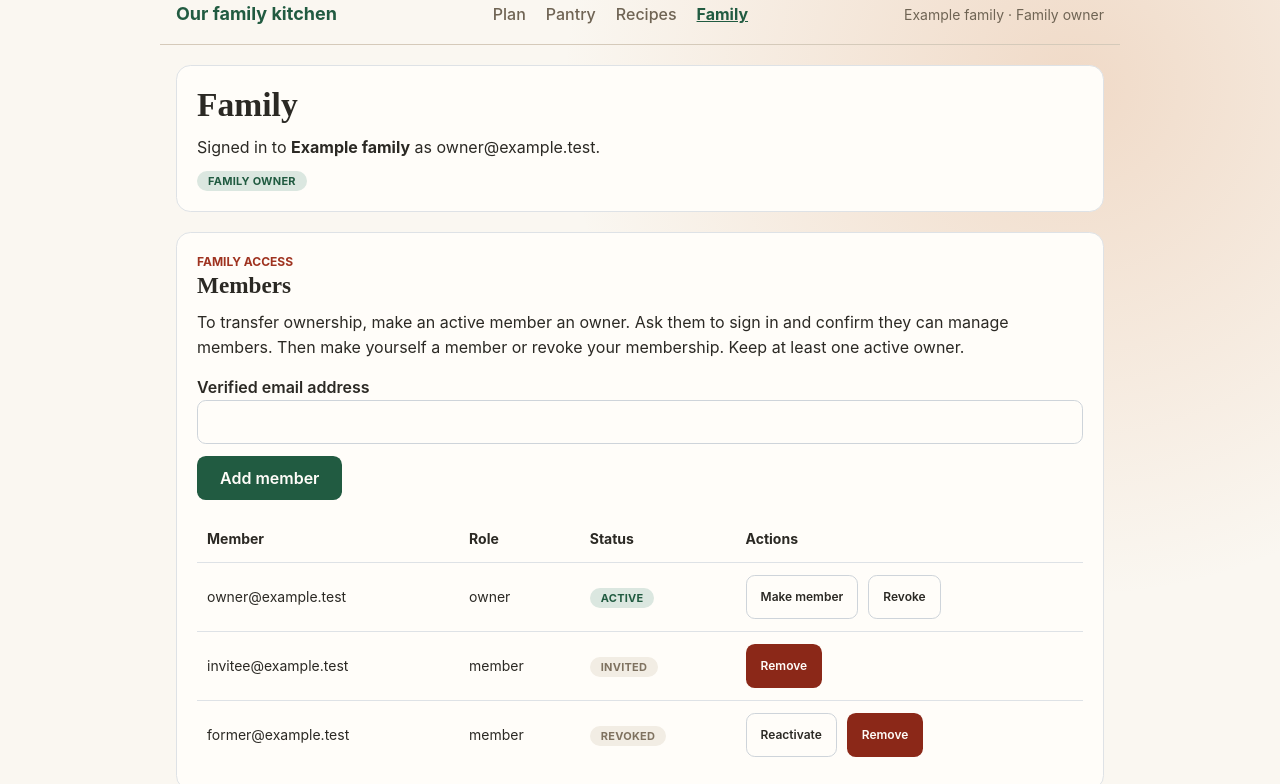
App › lets an owner add members and renders lifecycle actions
expect the heading "Members" is shown: met, box [197, 272, 291, 298]
expect the button "Make member" is shown: met, box [746, 575, 858, 619]
Type "new@example.test" into the field labelled "Verified email address" at (640, 422), box [197, 400, 1083, 444]
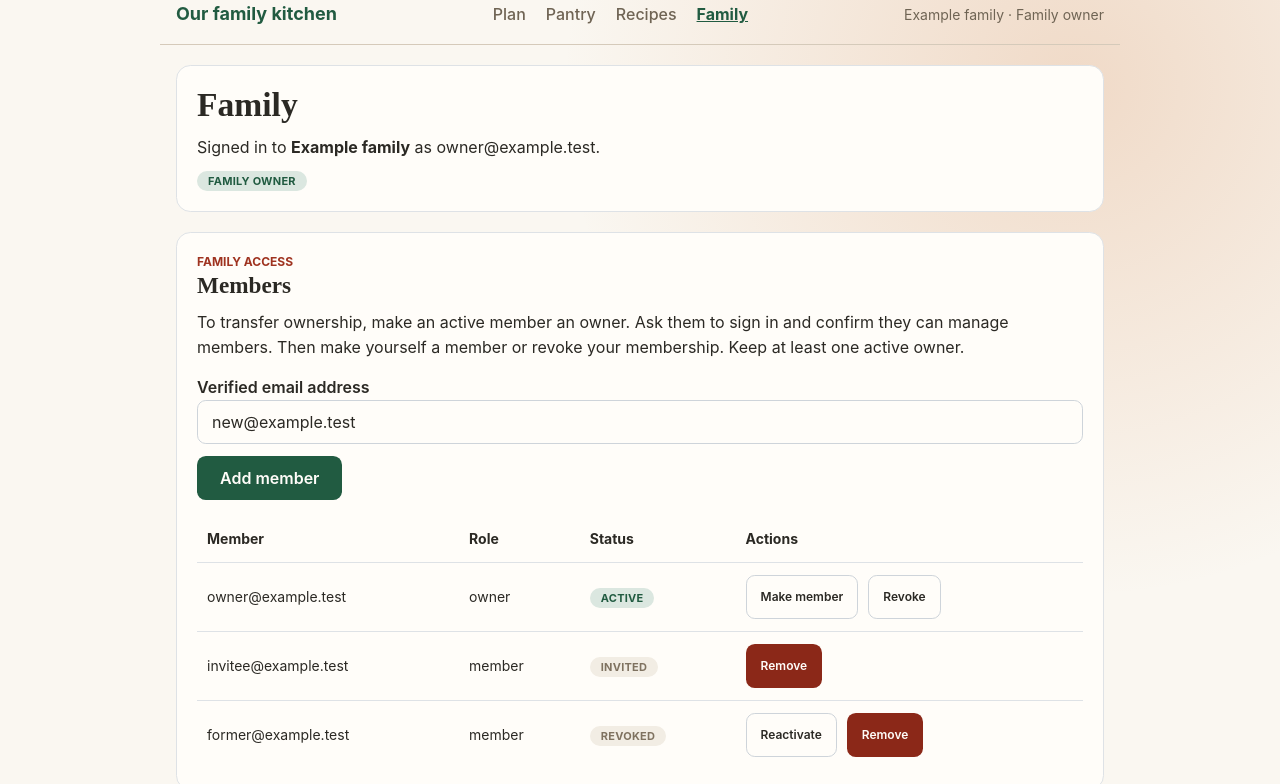
Click the button "Add member" at (270, 478), box [197, 456, 342, 500]
(page scrolled)
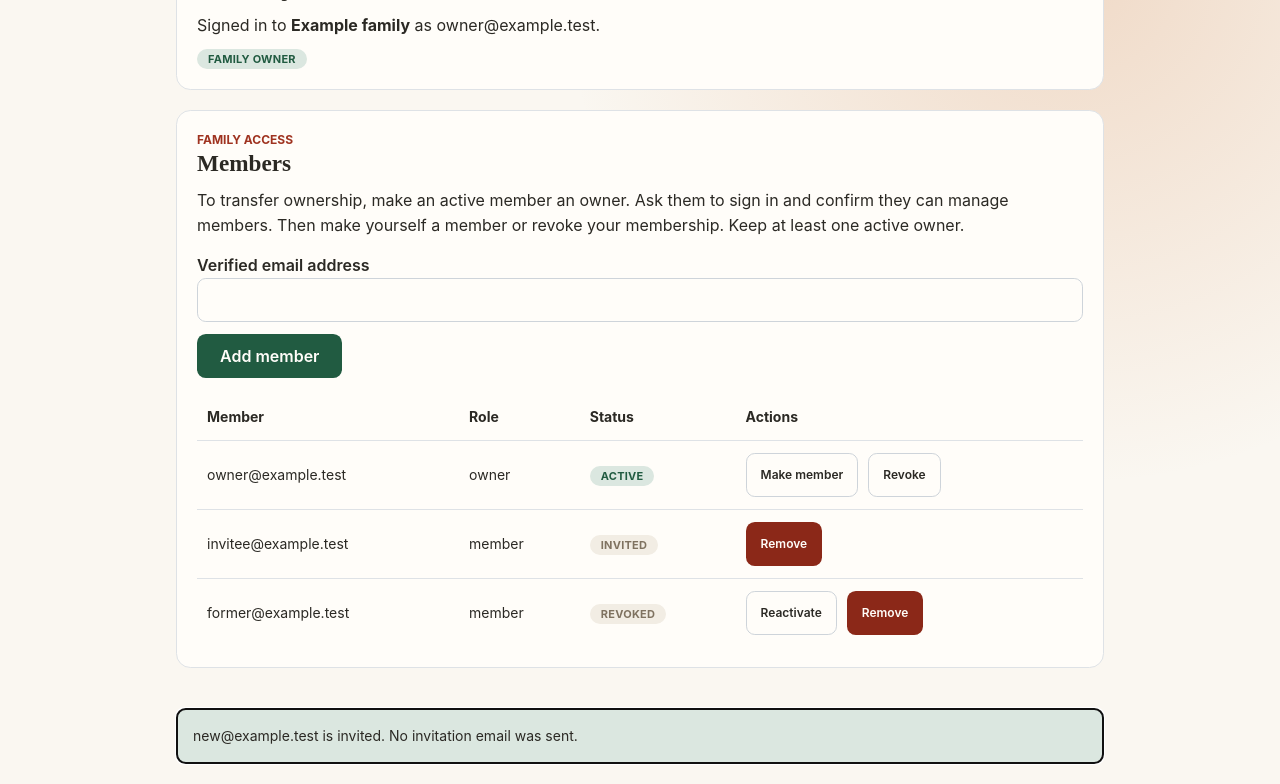
expect the text "new@example.test is invited. No invitation email was sent." is shown: met, box [193, 727, 578, 744]
